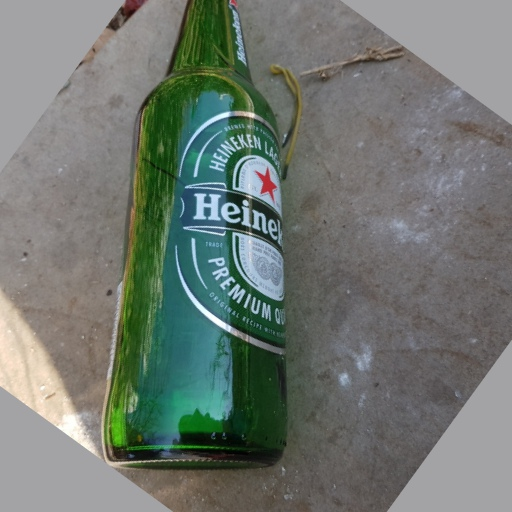Glass_1: (97, 3, 289, 475)
